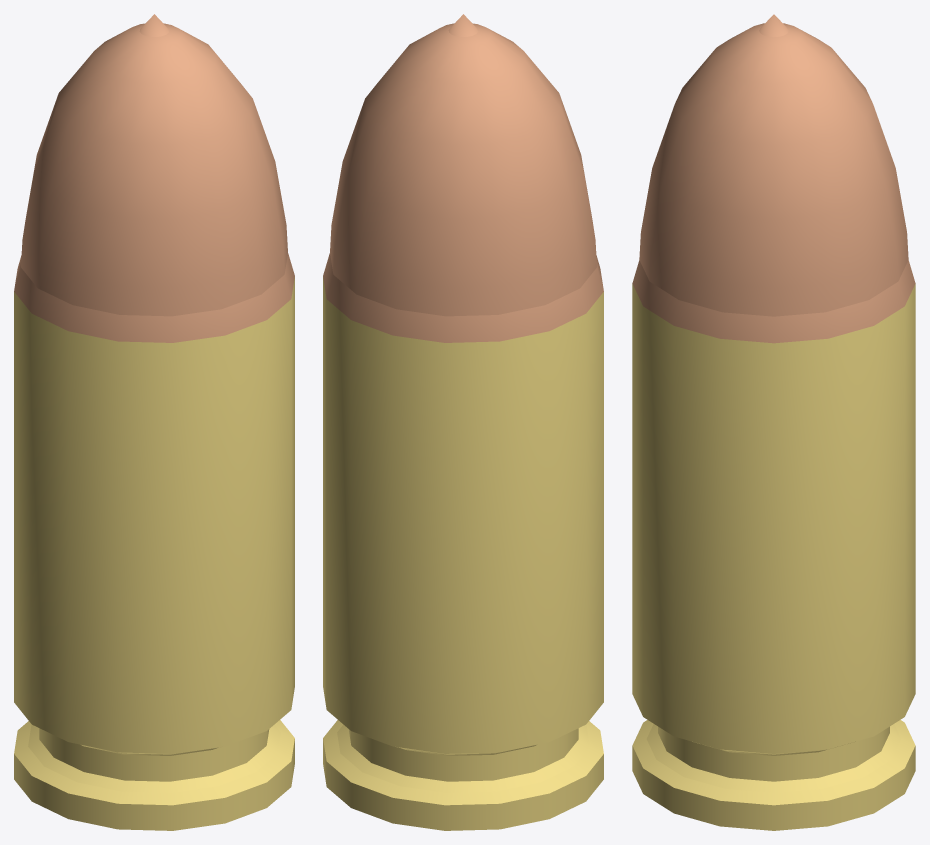
The model's file is pistolbullet.glb.
3 renders of one model, left to right at view 1: azimuth 30°, elevation 25°; view 2: azimuth 150°, elevation 25°; view 3: azimuth 270°, elevation 25°, orthographic.
Parts seen in each view (by area): view 1: 9mm_Cartridge, Copper_Projectile, Pistol_Casing; view 2: 9mm_Cartridge, Copper_Projectile, Pistol_Casing; view 3: 9mm_Cartridge, Copper_Projectile, Pistol_Casing.
Boxes of the visible parts, left/top/right/bottom form: 9mm_Cartridge: left=14, top=14, right=294, bottom=830; Copper_Projectile: left=21, top=23, right=287, bottom=316; Pistol_Casing: left=28, top=724, right=280, bottom=792; 9mm_Cartridge: left=323, top=14, right=603, bottom=830; Copper_Projectile: left=330, top=23, right=596, bottom=316; Pistol_Casing: left=337, top=724, right=589, bottom=792; 9mm_Cartridge: left=632, top=14, right=915, bottom=830; Copper_Projectile: left=639, top=23, right=908, bottom=316; Pistol_Casing: left=646, top=724, right=901, bottom=792.
Size of the model in its own units: 1 by 2.95 by 1.
